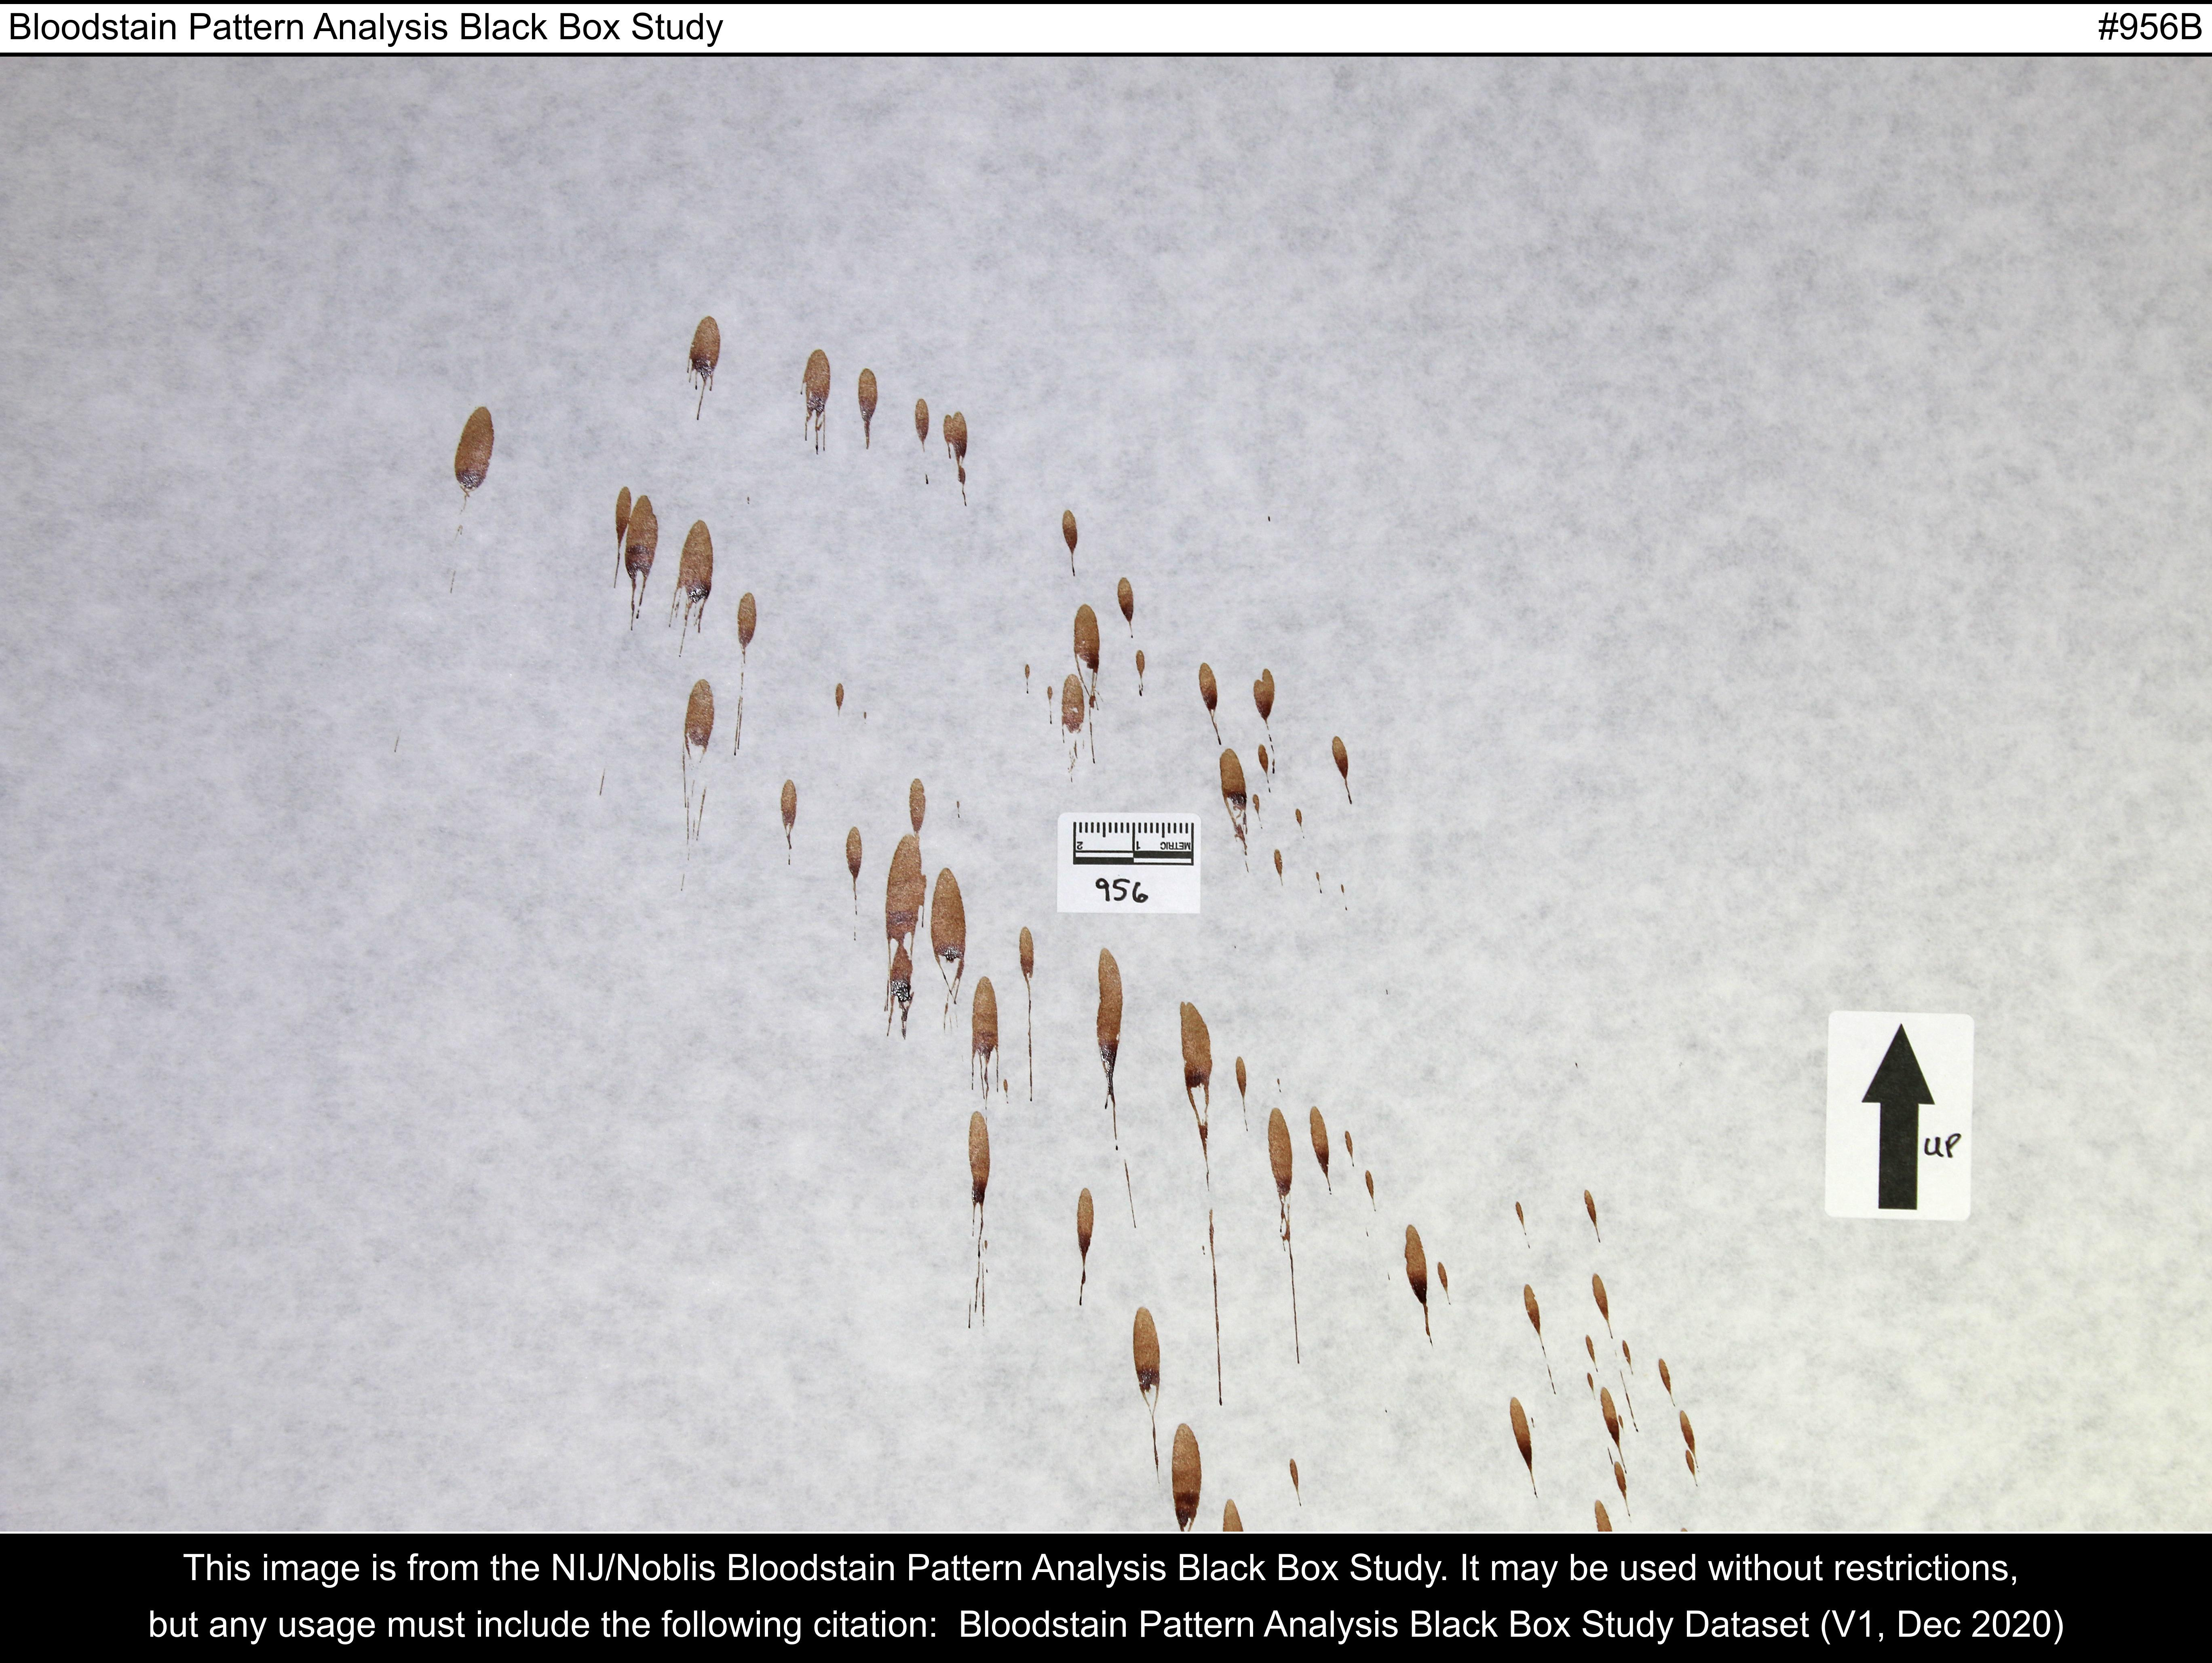Impact: (417, 203, 1741, 1528)
